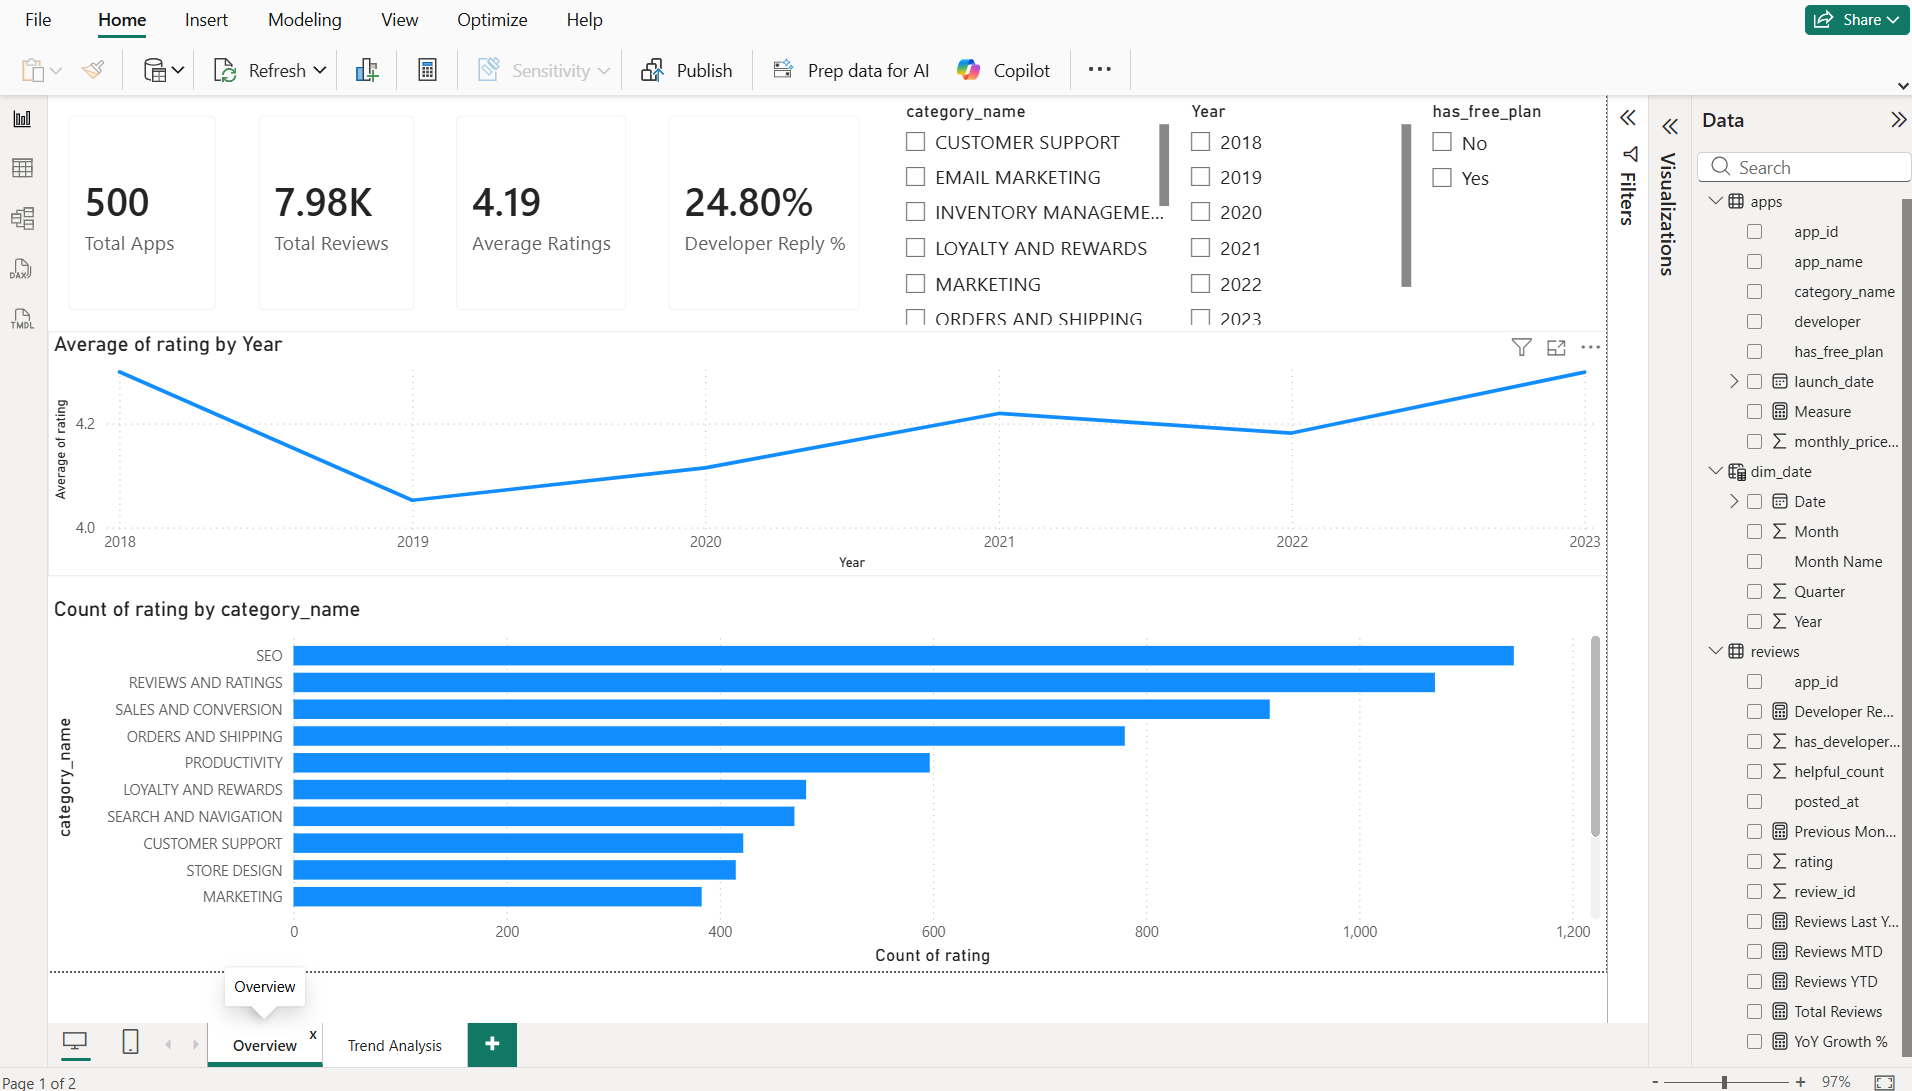

Layout of this report page (visuals, bound fields, positions):
{"tool":"powerbi","page":{"name":"Overview","canvas":[1280,720],"ordinal":0},"visuals":[{"type":"cardVisual","fields":{"Data":["Count(apps.app_id)"]},"box":[0,0,155.8,194.2],"z":0},{"type":"cardVisual","fields":{"Data":["CountNonNull(reviews.review_id)"]},"box":[155.8,0,162.8,194.2],"z":1000},{"type":"cardVisual","fields":{"Data":["Avg(reviews.rating)"]},"box":[318.6,0,174.4,194.2],"z":2000},{"type":"cardVisual","fields":{"Data":["reviews.Developer Reply %"]},"box":[493,0,191.9,194.2],"z":3000},{"type":"slicer","fields":{"Values":["apps.category_name"]},"box":[691.9,0,233.7,194.2],"z":4000},{"type":"slicer","fields":{"Values":["dim_date.Year"]},"box":[925.6,0,198.8,194.2],"z":5000},{"type":"slicer","fields":{"Values":["apps.has_free_plan"]},"box":[1124.5,0,155.5,154.3],"z":6000},{"type":"lineChart","fields":{"Category":["apps.launch_date.Variation.Date Hierarchy.Year"],"Y":["Avg(reviews.rating)"]},"box":[0,194.2,1280.2,201.2],"z":7000},{"type":"barChart","fields":{"Category":["apps.category_name"],"Y":["CountNonNull(reviews.rating)"]},"box":[0,411.6,1280.2,308.1],"z":8000}]}

Visuals, with their boxes on the page's 1280x720 design canvas (x1, y1, x2, y2). These are canvas units, not pixel positions in the 1912x1091 screenshot, which may show the page scaled, cropped or inside an application window:
cardVisual - Count(apps.app_id): bbox=(0, 0, 156, 194)
cardVisual - CountNonNull(reviews.review_id): bbox=(156, 0, 319, 194)
cardVisual - Avg(reviews.rating): bbox=(319, 0, 493, 194)
cardVisual - reviews.Developer Reply %: bbox=(493, 0, 685, 194)
slicer - apps.category_name: bbox=(692, 0, 926, 194)
slicer - dim_date.Year: bbox=(926, 0, 1124, 194)
slicer - apps.has_free_plan: bbox=(1124, 0, 1280, 154)
lineChart - apps.launch_date.Variation.Date Hierarchy.Year x Avg(reviews.rating): bbox=(0, 194, 1280, 395)
barChart - apps.category_name x CountNonNull(reviews.rating): bbox=(0, 412, 1280, 720)
